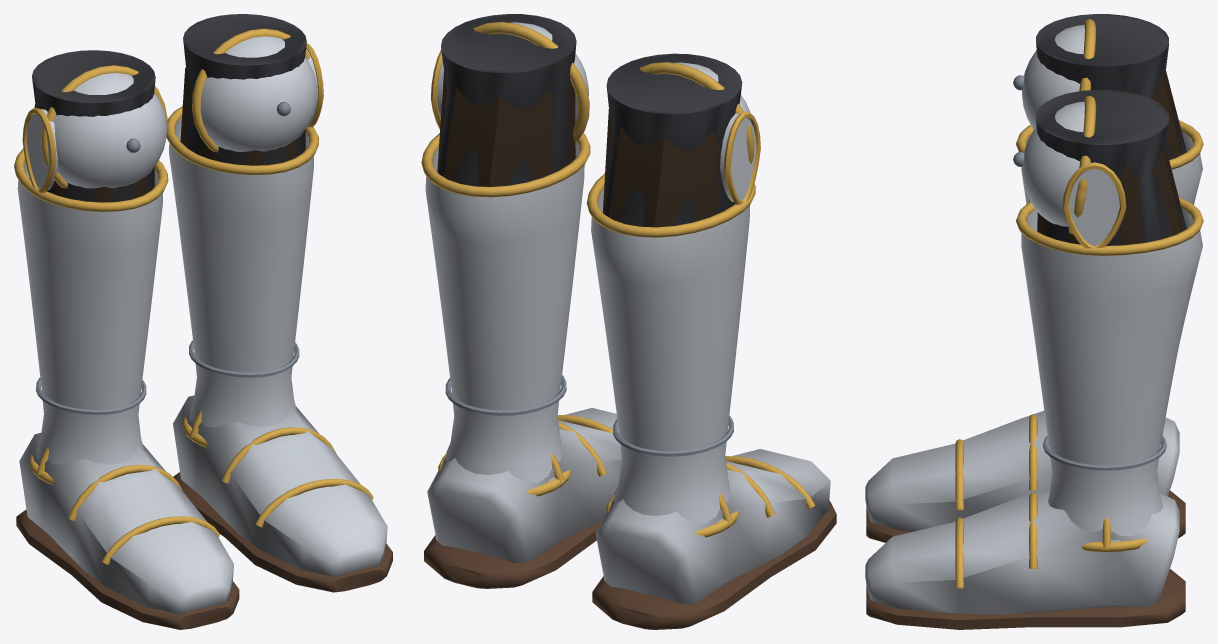
The model's file is f_royalplate.glb.
3 views of the same model, side by side, from view 1: azimuth 30°, elevation 25°; view 2: azimuth 150°, elevation 25°; view 3: azimuth 270°, elevation 25° (orthographic). The views are drawn at different scales.
Visible parts, largest first — view 1: LegR_Boot, LegL_Boot, LegR_BootFoot, LegL_BootFoot, LegL_Shin, LegR_Shin; view 2: LegR_Boot, LegL_Boot, LegR_BootFoot, LegL_BootFoot, LegL_Shin, LegR_Shin; view 3: LegL_Boot, LegL_BootFoot, LegR_BootFoot, LegR_Boot, LegL_Shin, LegR_Shin.
Boxes of the visible parts, left/top/right/bottom form: LegR_Boot: left=14, top=50, right=168, bottom=484; LegL_Boot: left=166, top=14, right=323, bottom=447; LegR_BootFoot: left=16, top=433, right=239, bottom=629; LegL_BootFoot: left=173, top=395, right=392, bottom=592; LegL_Shin: left=180, top=66, right=305, bottom=165; LegR_Shin: left=29, top=103, right=154, bottom=202; LegR_Boot: left=586, top=53, right=760, bottom=537; LegL_Boot: left=421, top=14, right=590, bottom=496; LegR_BootFoot: left=592, top=449, right=836, bottom=629; LegL_BootFoot: left=424, top=408, right=621, bottom=588; LegL_Shin: left=437, top=71, right=575, bottom=186; LegR_Shin: left=602, top=109, right=719, bottom=227; LegL_Boot: left=1013, top=89, right=1203, bottom=551; LegL_BootFoot: left=865, top=487, right=1185, bottom=629; LegR_BootFoot: left=865, top=410, right=1185, bottom=542; LegR_Boot: left=1013, top=14, right=1203, bottom=204; LegL_Shin: left=1039, top=148, right=1186, bottom=245; LegR_Shin: left=1123, top=71, right=1186, bottom=158.
Bounding box in the file's own units: 0.3511 × 0.5832 × 0.3545.
